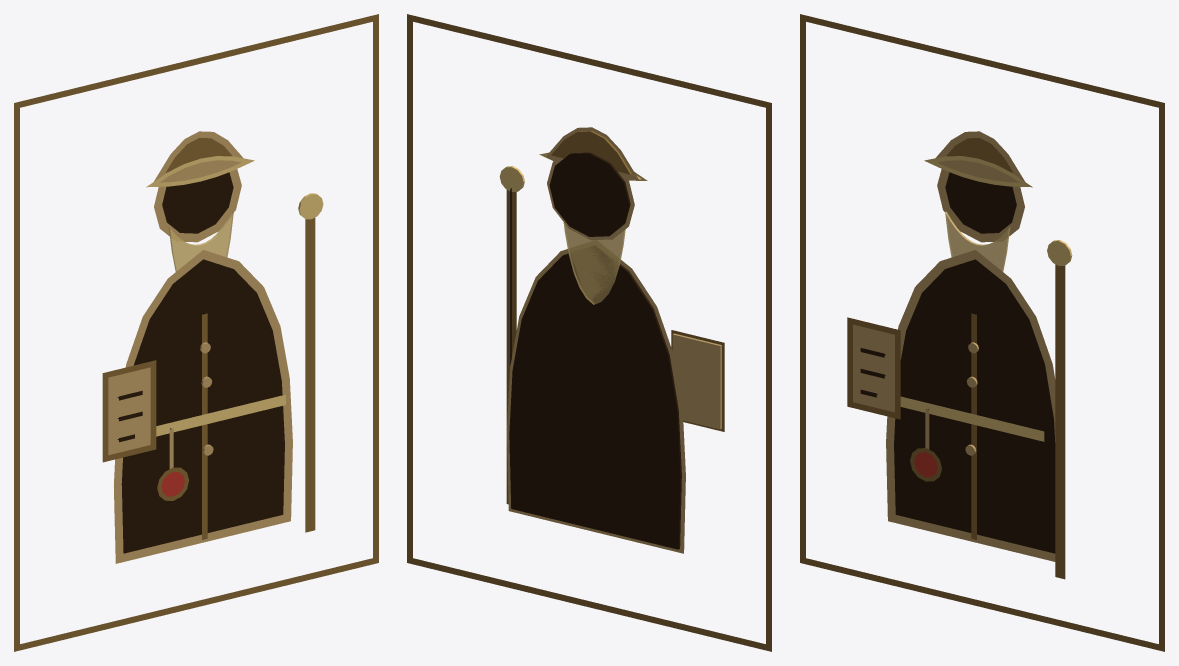
File: npc-starosta-goroda.glb
3 renders of one model, left to right at view 1: azimuth 30°, elevation 25°; view 2: azimuth 150°, elevation 25°; view 3: azimuth 330°, elevation 25°, orthographic.
Parts seen in each view (by area): view 1: npc-starosta-goroda; view 2: npc-starosta-goroda; view 3: npc-starosta-goroda.
Boxes of the visible parts, x1,y1,x2,y2 form: npc-starosta-goroda: (14, 14, 378, 651); npc-starosta-goroda: (407, 14, 771, 651); npc-starosta-goroda: (800, 14, 1164, 651).
Bounding box in the file's own units: 1.14 × 1.64 × 0.1204.
